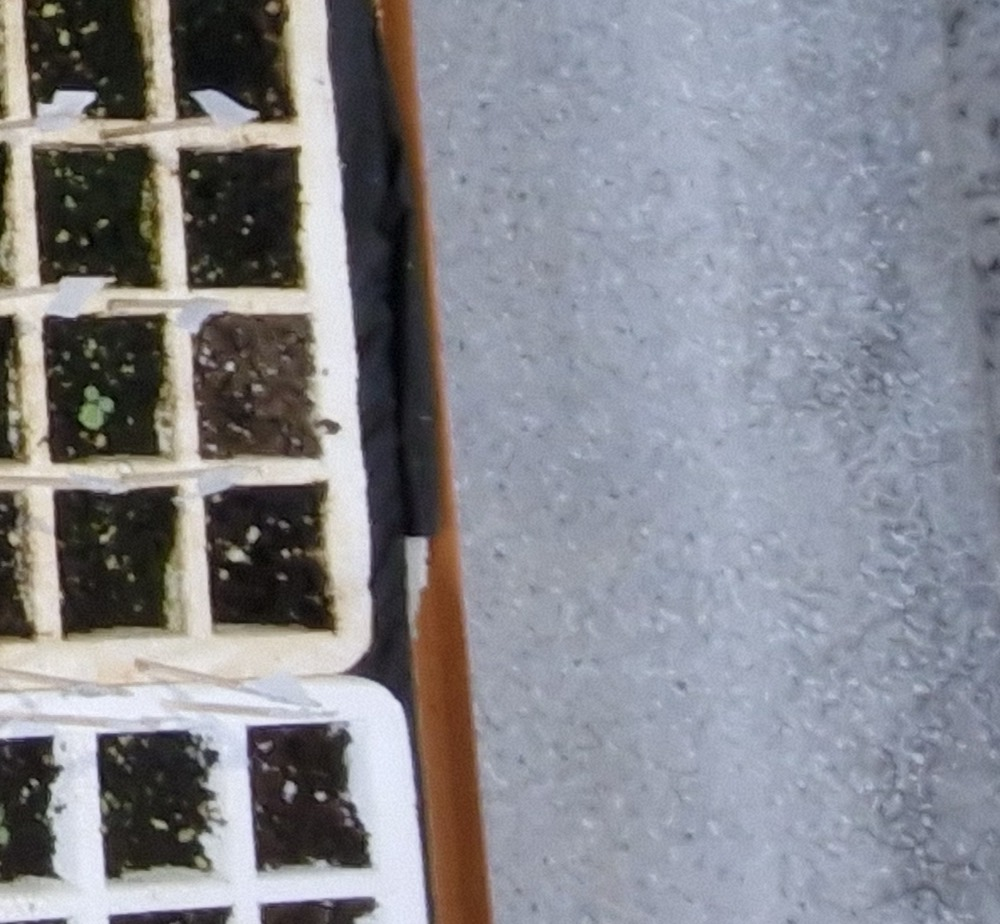Folha: (79, 404, 104, 429), (98, 397, 116, 412), (84, 386, 98, 401)
Germinacao: (78, 386, 115, 431)
